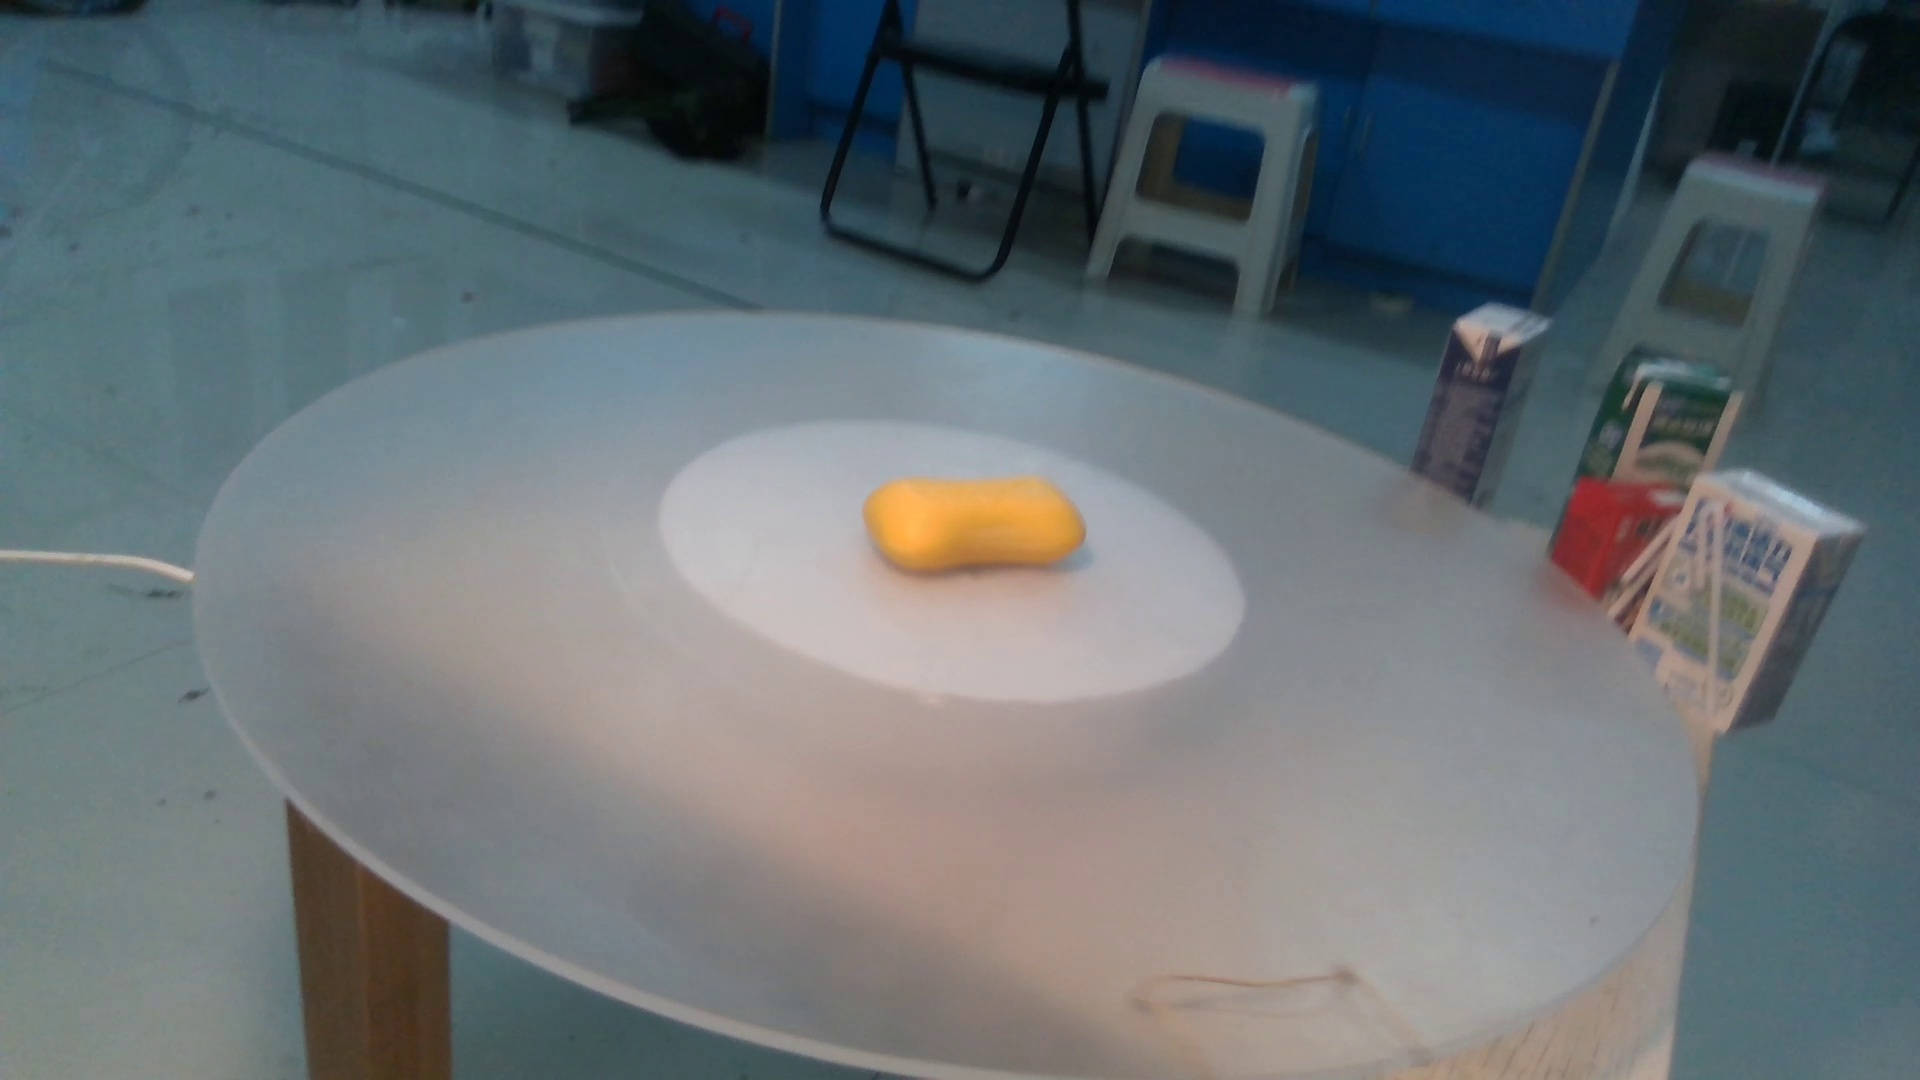CA003_1: (855, 440, 1113, 597)
